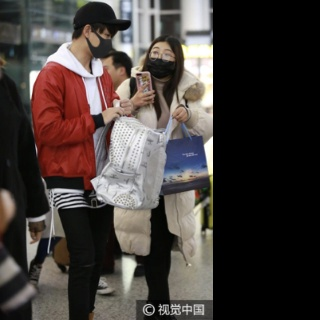with_mask: (146, 45, 176, 79), (91, 32, 113, 60)
